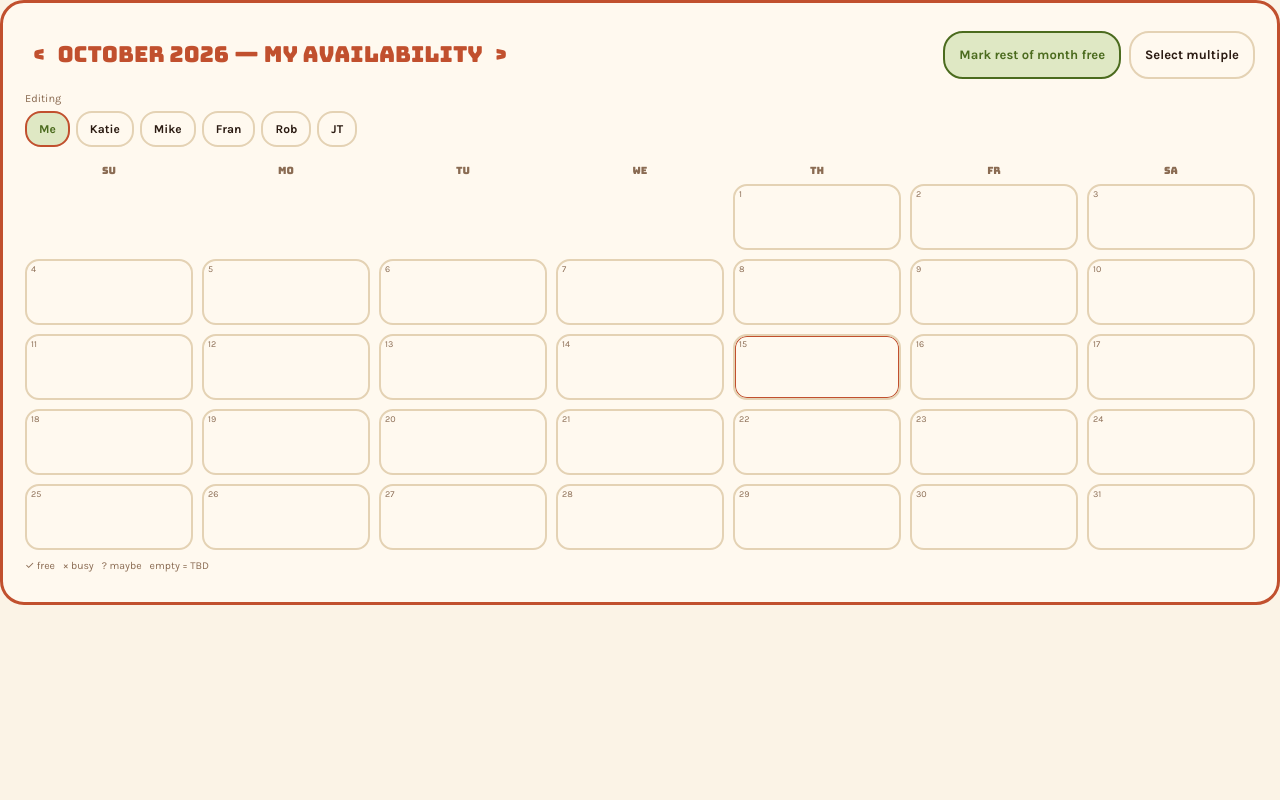
Test: who you can edit › warns the admin they are not editing their own calendar
The image size is (1280, 800).
What coordinates should you click on to do the following:
click the button "Mike"
I would click on:
 (168, 129)
Its box is [140,111,196,147].
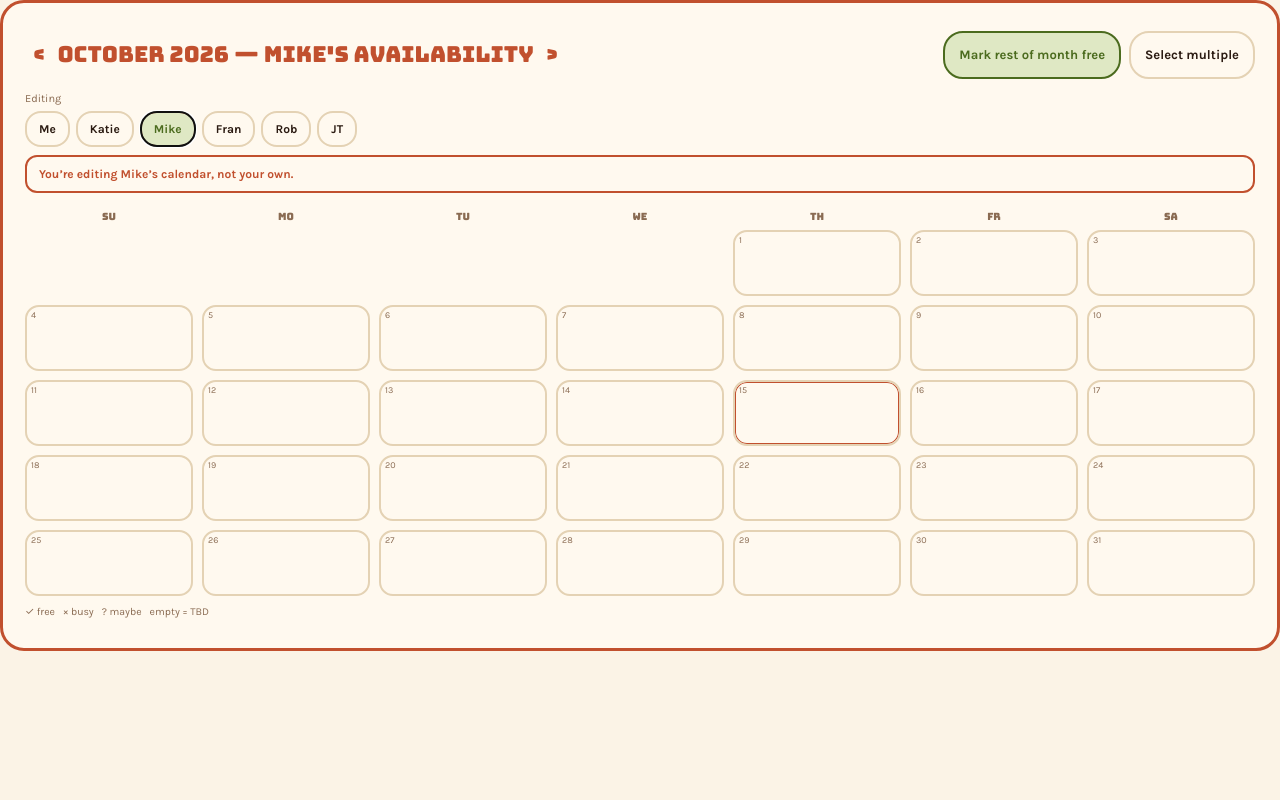
Expected: the text "You’re editing Mike’s calendar, not your own." is shown, [25,155,1255,193]
